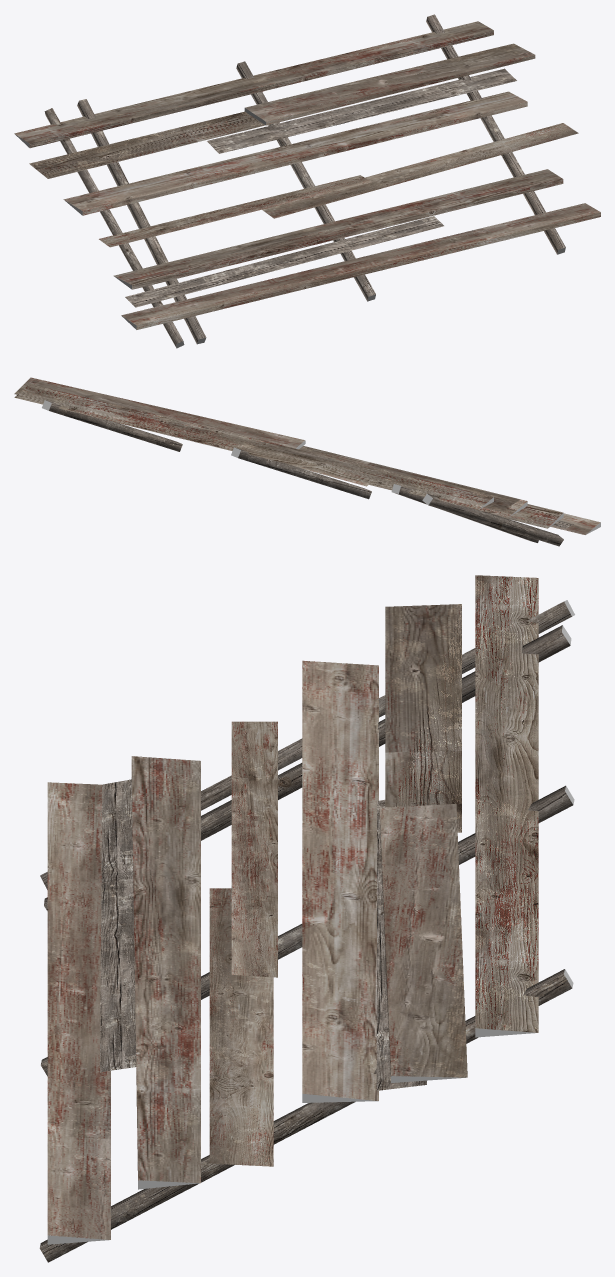
The model's file is WoodStairs2_LOD2.fbx.
3 renders of one model, top to bottom at view 1: azimuth 30°, elevation 25°; view 2: azimuth 150°, elevation 25°; view 3: azimuth 270°, elevation 25°, orthographic. The views are drawn at different scales.
Parts seen in each view (by area): view 1: polySurface1233; view 2: polySurface1233; view 3: polySurface1233.
Boxes of the visible parts, x1,y1,x2,y2 form: polySurface1233: (14, 14, 600, 348); polySurface1233: (14, 377, 600, 546); polySurface1233: (39, 575, 574, 1262).
Bounding box in the file's own units: 4.43 × 1.29 × 2.1.
